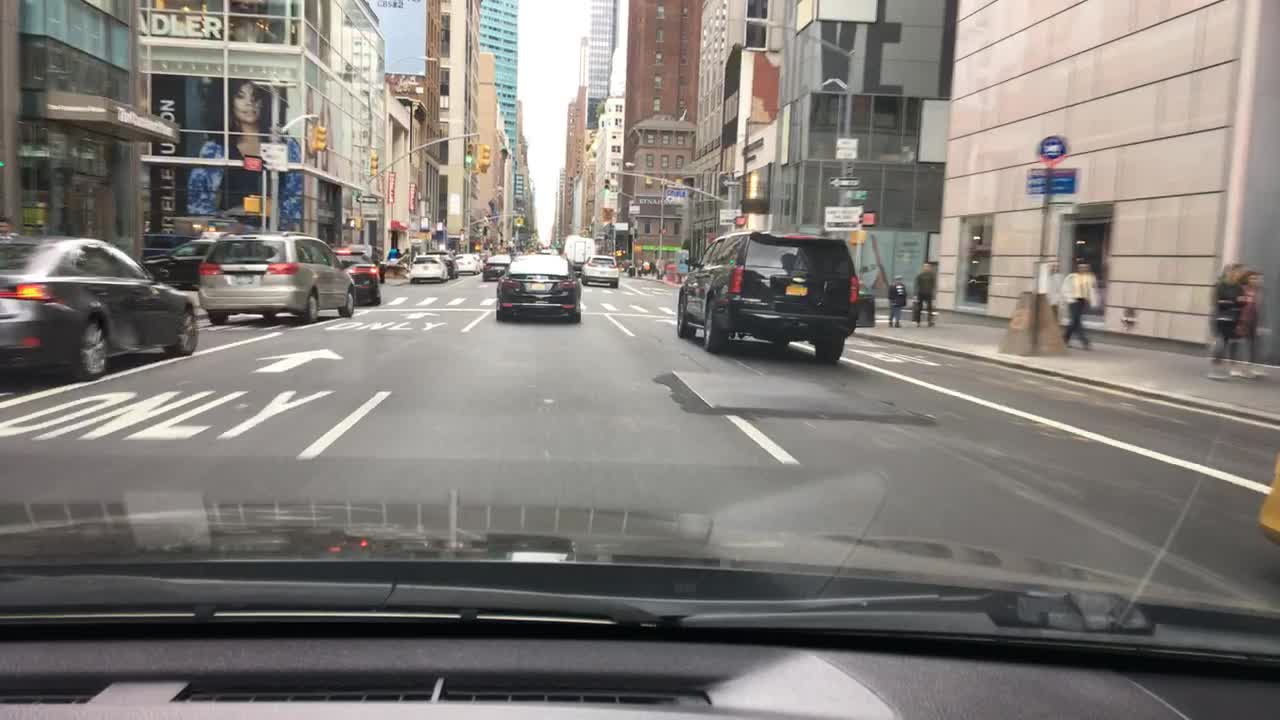car: (0, 232, 200, 381), (676, 229, 860, 361), (198, 228, 356, 324), (496, 255, 580, 320), (142, 235, 217, 294), (334, 245, 383, 306), (580, 255, 618, 286)
person: (1230, 269, 1271, 385), (1056, 255, 1101, 351), (1205, 263, 1240, 380), (907, 264, 940, 328), (1044, 264, 1066, 324), (885, 272, 905, 334), (647, 258, 657, 275)
traffic light: (311, 124, 326, 157), (849, 228, 868, 245), (465, 143, 476, 165), (244, 195, 258, 212), (369, 152, 378, 177), (346, 212, 361, 227), (481, 147, 490, 169), (603, 177, 612, 193), (514, 215, 522, 227)
traffic sign: (1029, 167, 1076, 190), (1036, 134, 1069, 163), (821, 204, 860, 228), (257, 142, 286, 172), (833, 136, 855, 157), (719, 207, 742, 224), (831, 175, 855, 189), (666, 189, 683, 204), (845, 187, 865, 198), (356, 194, 379, 202)
truck: (562, 233, 593, 268), (408, 255, 447, 281), (479, 252, 511, 281), (430, 248, 459, 277), (455, 252, 482, 270)
